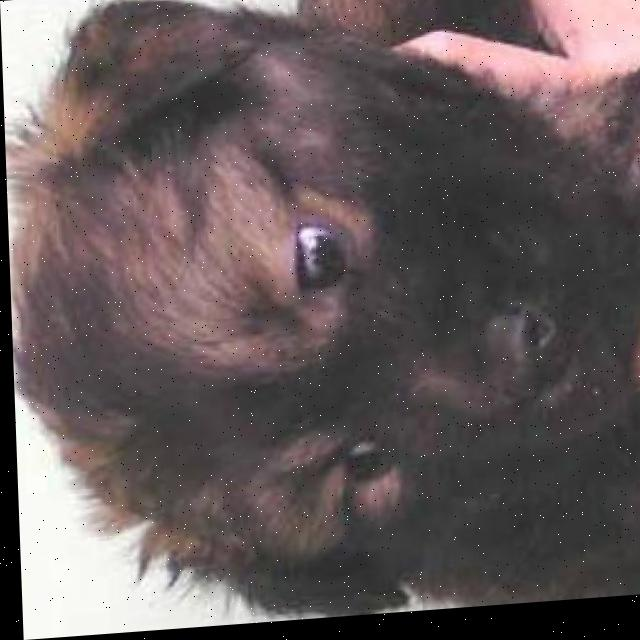dogs: (2, 0, 640, 640)
